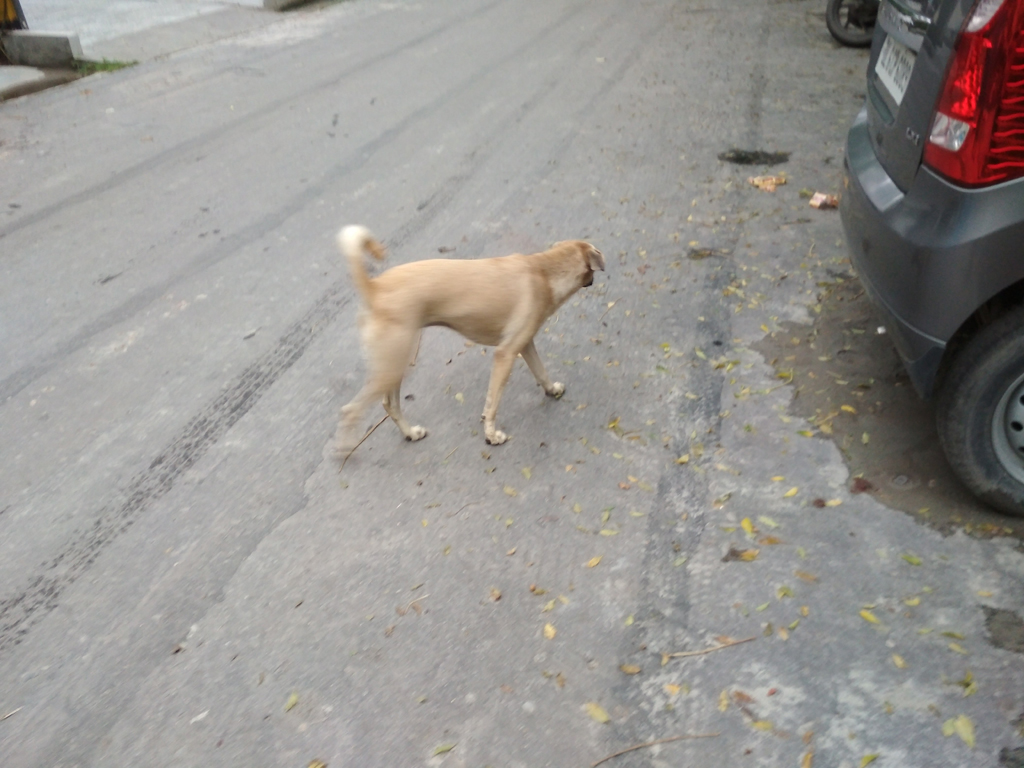dog: (334, 225, 608, 445)
